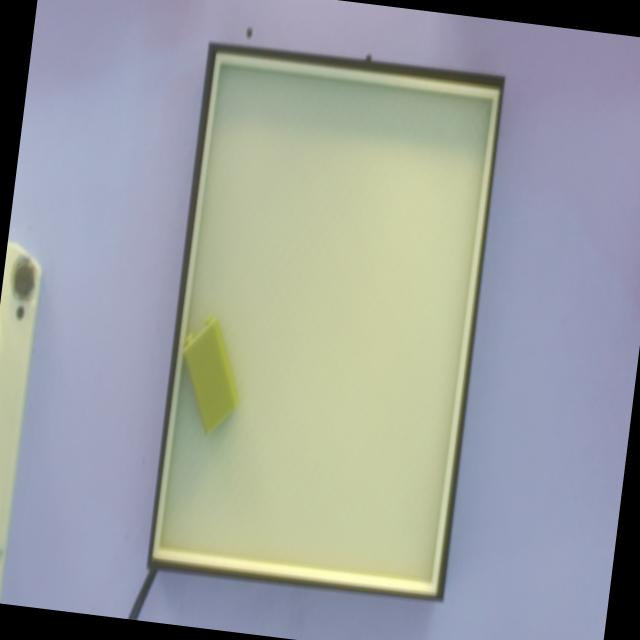bateria: (180, 315, 238, 438)
mesa: (146, 42, 505, 600)
